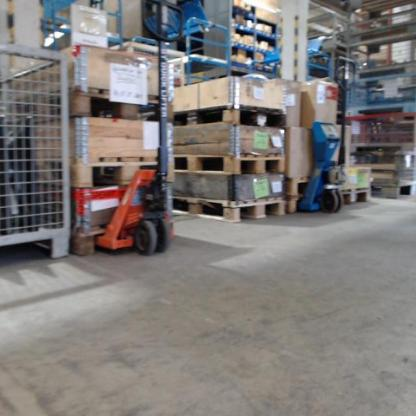pallet: (77, 211, 176, 259), (69, 88, 174, 122), (173, 195, 285, 222), (172, 151, 287, 175), (175, 105, 286, 129), (71, 158, 174, 182), (342, 188, 372, 204)
pallet_truck: (95, 2, 185, 255), (296, 55, 359, 216)
stillage: (1, 39, 75, 270), (363, 149, 415, 198), (360, 69, 415, 110), (361, 113, 415, 147)
